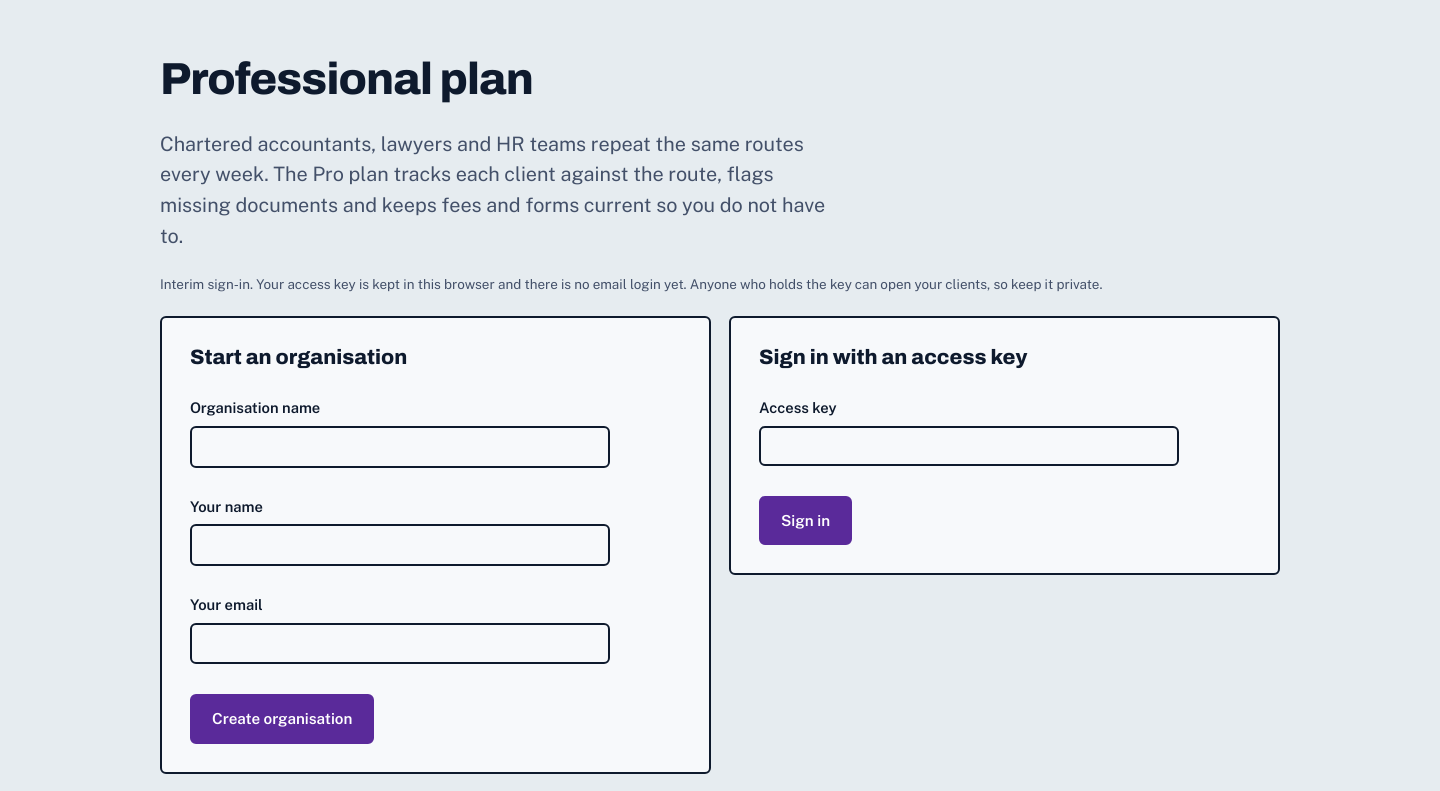
Test case: Pro: signing in › creates an organisation, shows the access key once, and opens the dashboard
The image size is (1440, 791).
In the field labelled "Organisation name": {"x": 400, "y": 447} [190,426,610,468], type "Rao & Co"
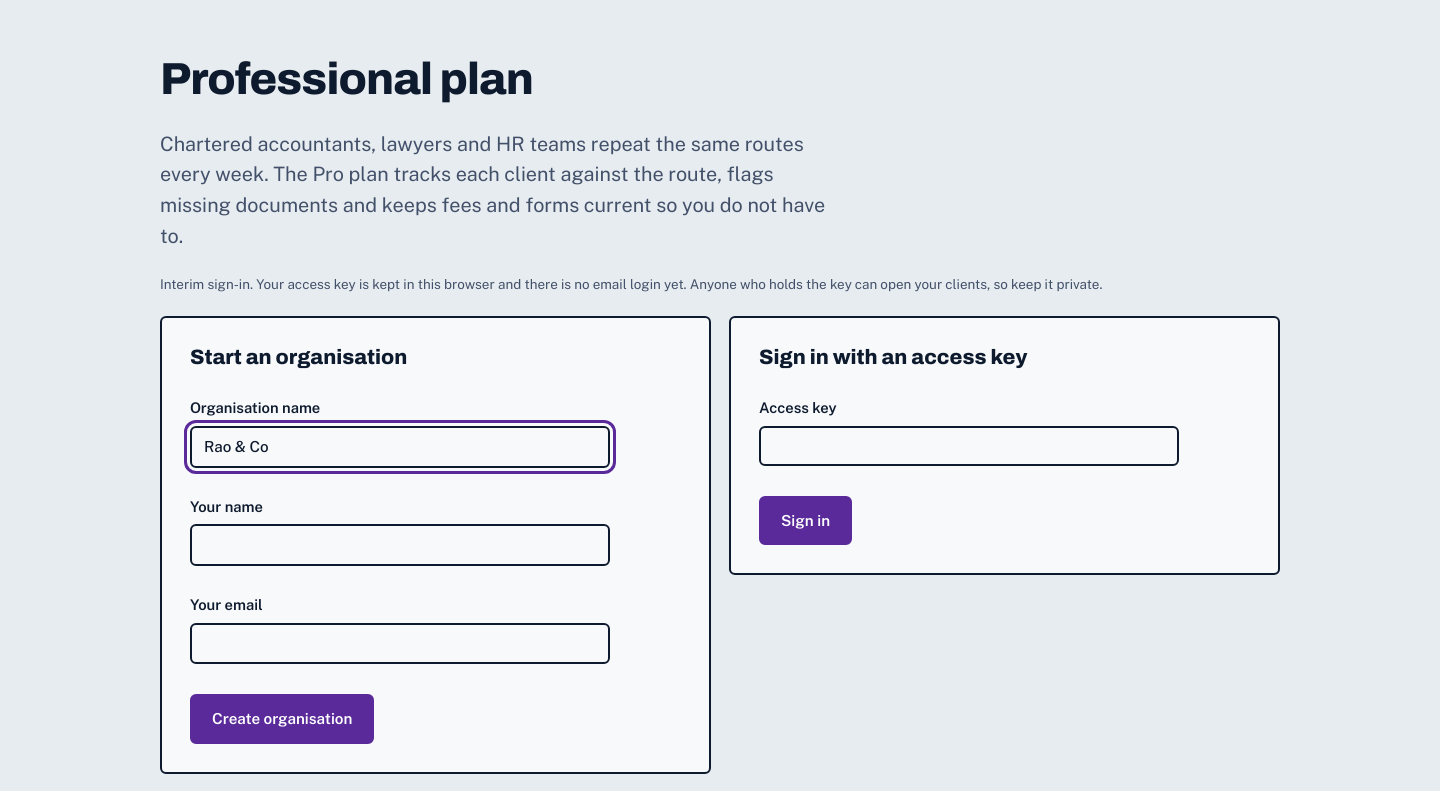
In the field labelled "Your name": {"x": 400, "y": 545} [190,524,610,566], type "Meera Rao"
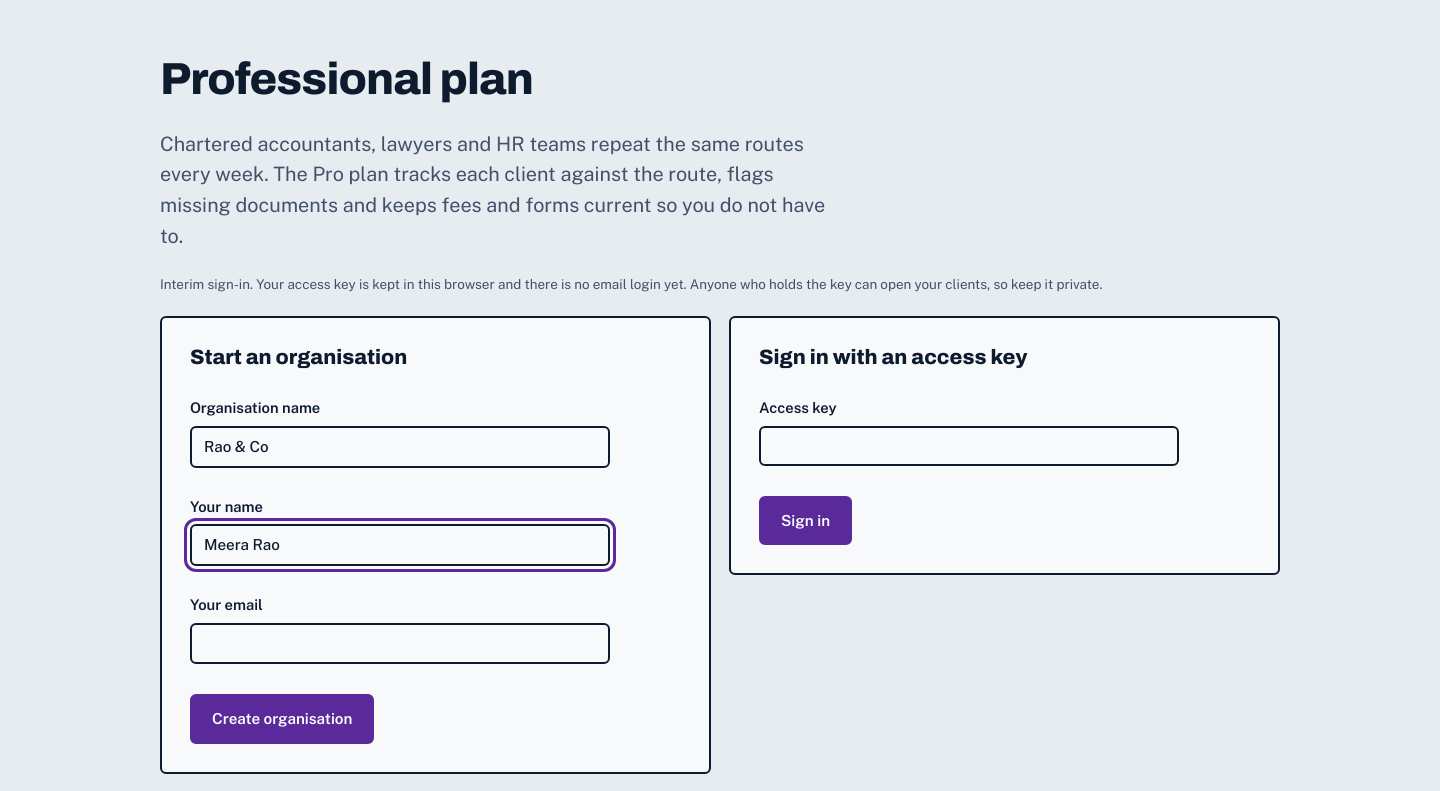
In the field labelled "Your email": {"x": 400, "y": 643} [190,622,610,664], type "meera@example.com"
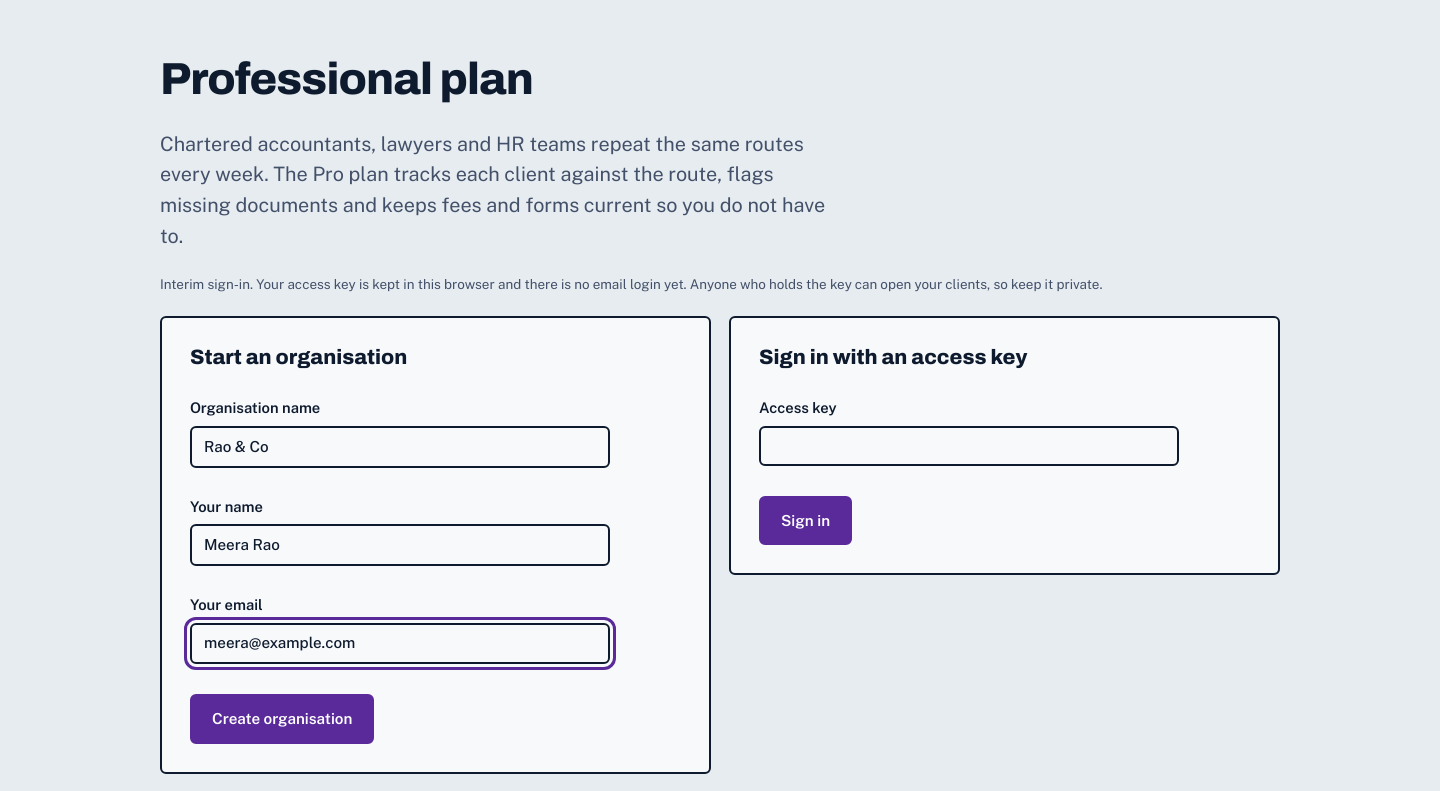
Click the button "Create organisation": {"x": 282, "y": 719} [190,694,374,744]
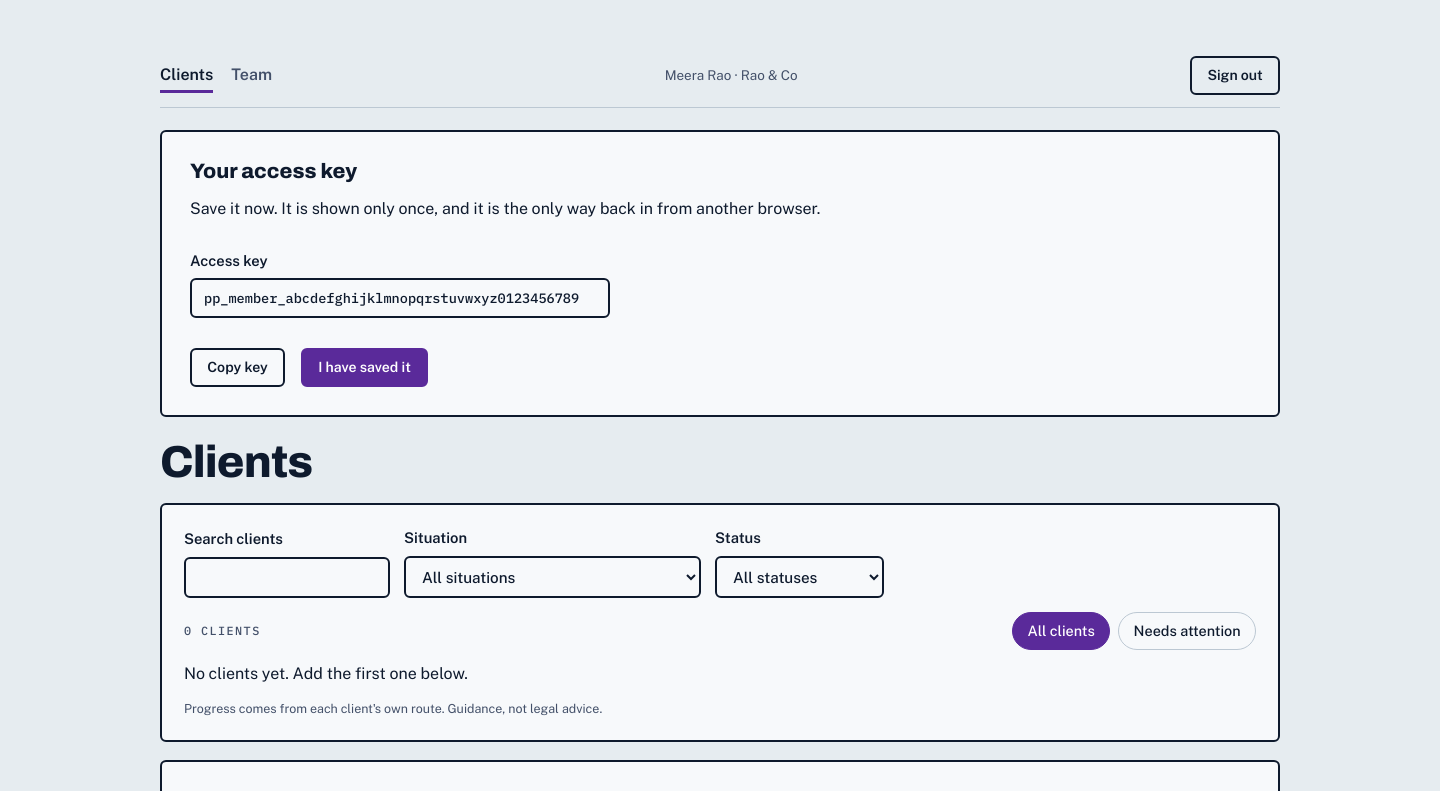
Expected: the heading "Your access key" is shown, [190,160,357,182]
Result: the field labelled "Access key" holds "pp_member_abcdefghijklmnopqrstuvwxyz0123456789" at [190,278,610,318]
Result: the heading "Clients" is shown at [160,438,312,486]
Click the button "I have saved it": {"x": 365, "y": 367} [301,348,428,387]
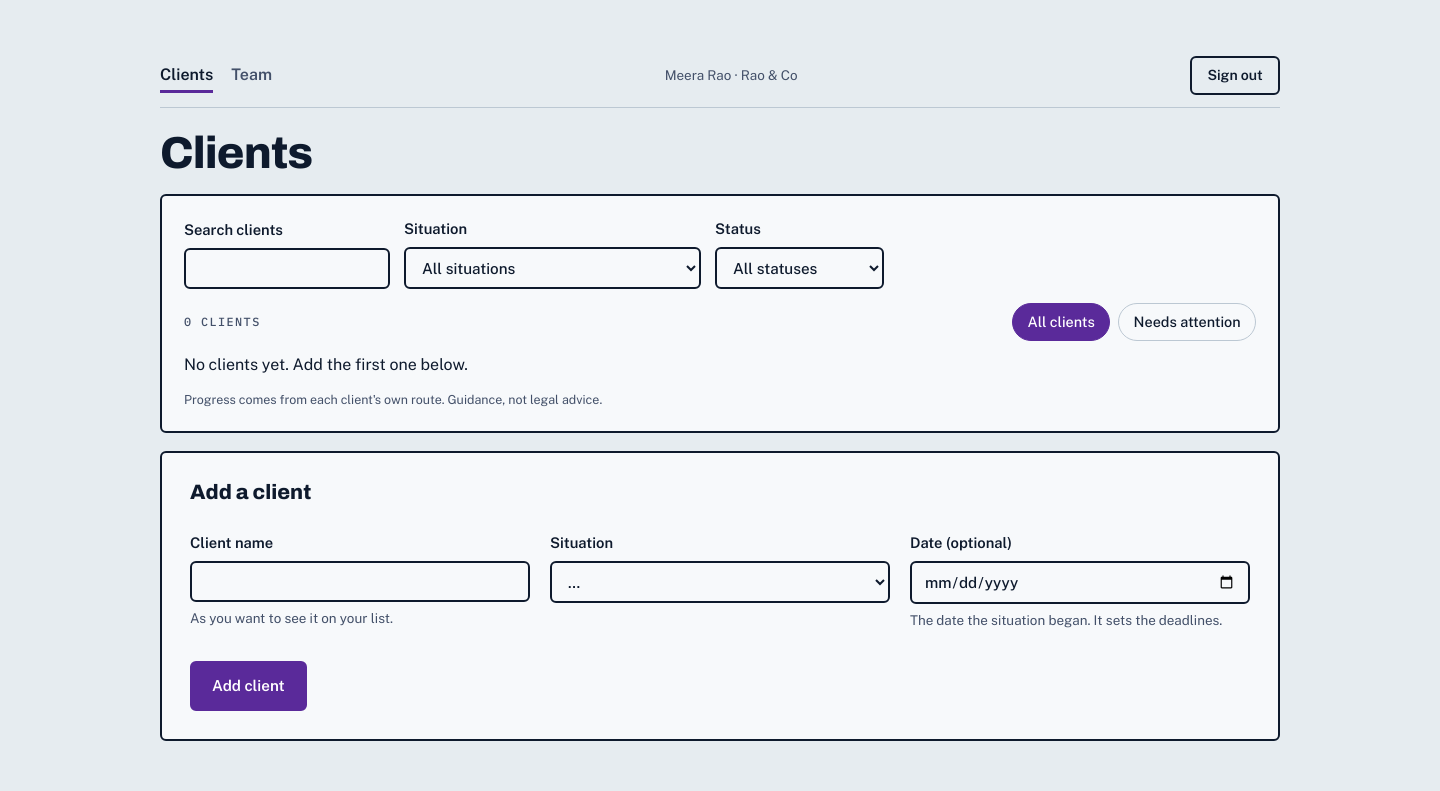
Result: the heading "Your access key" is gone
